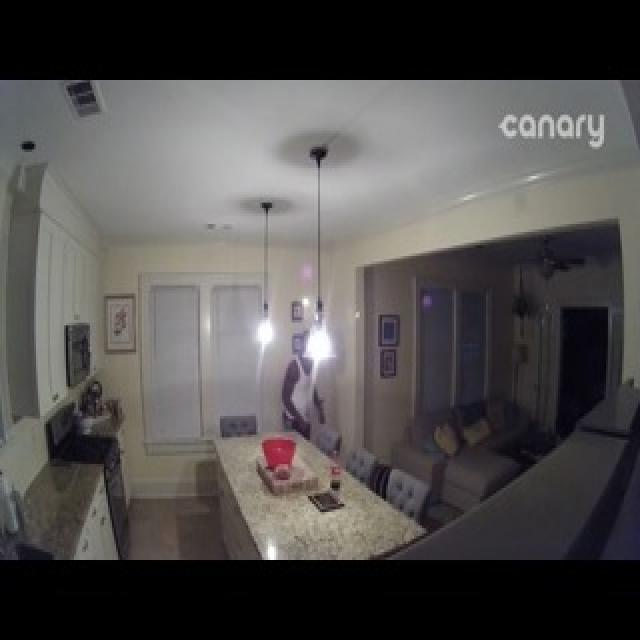thief: (283, 325, 326, 446)
